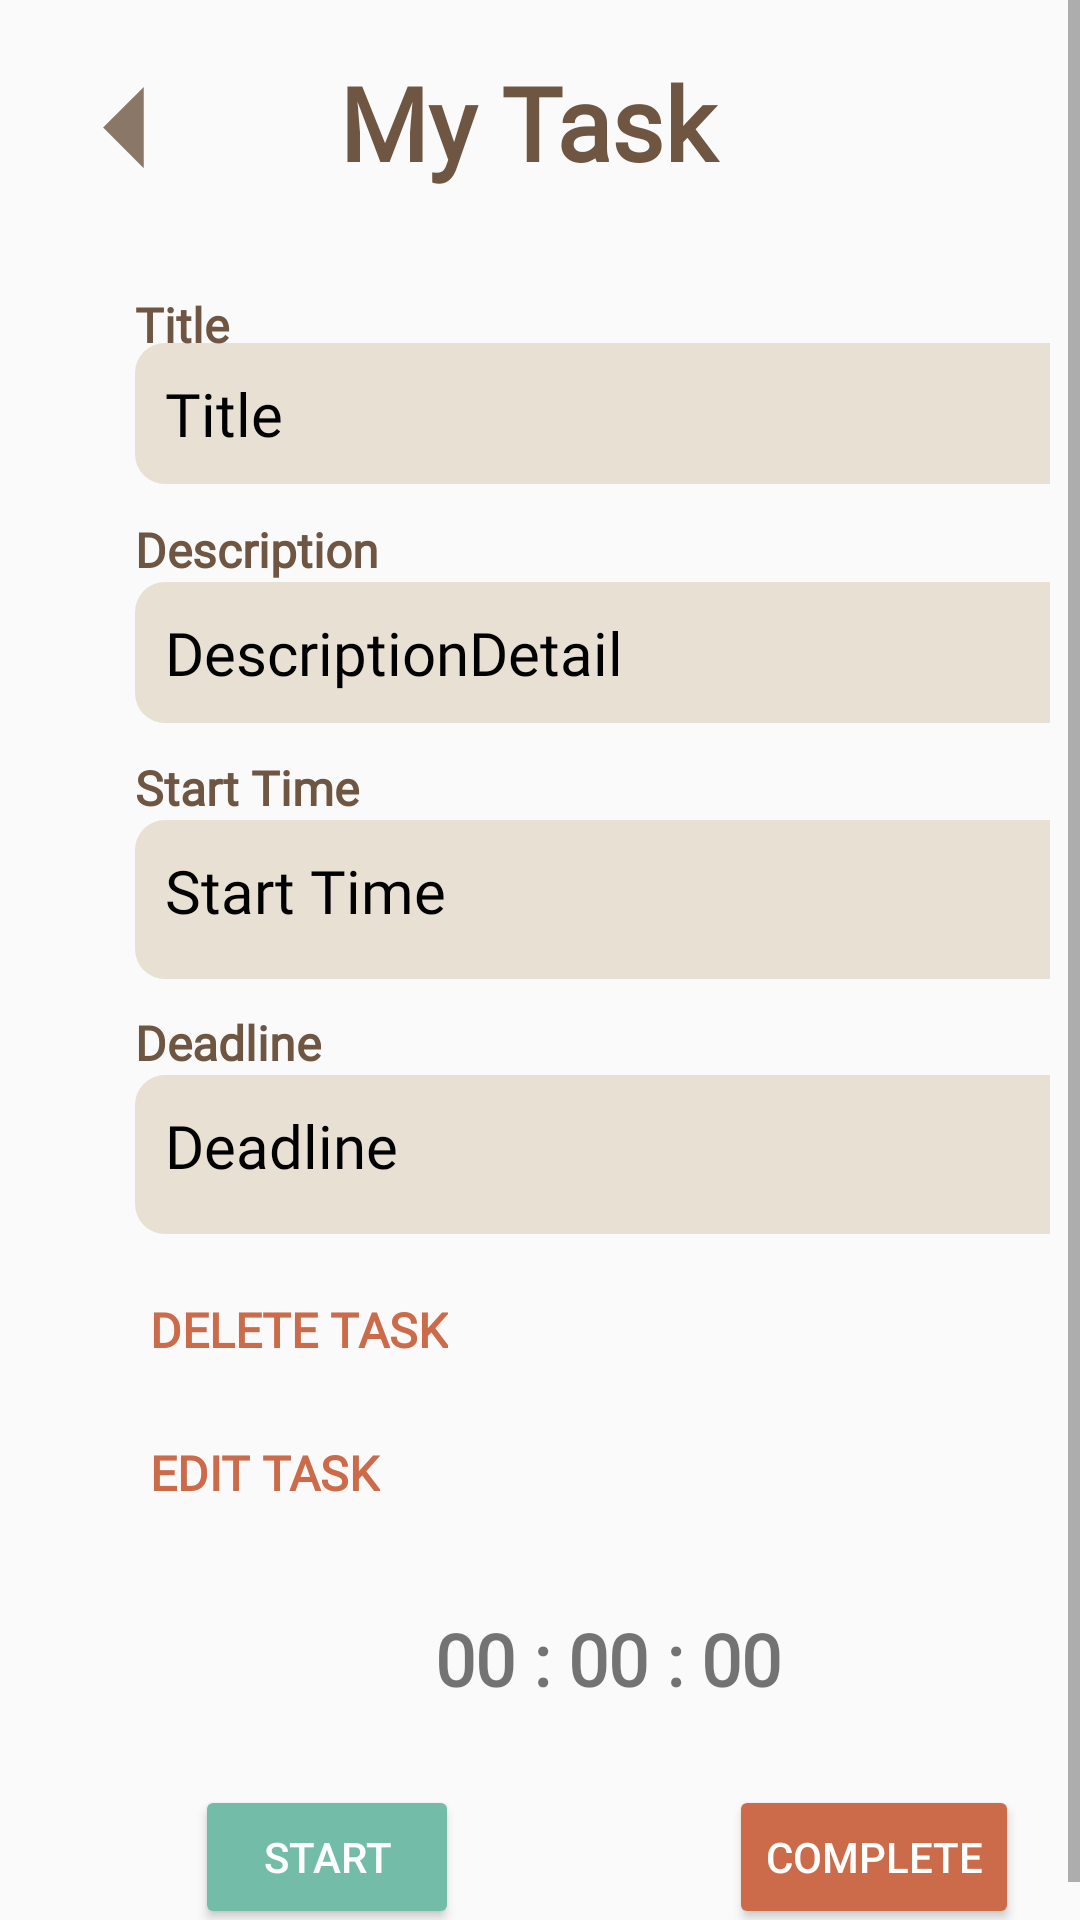

Icons on this 1080w x 1920h Android screen, each with the point to tap as (x,y):
back: (123,127)
